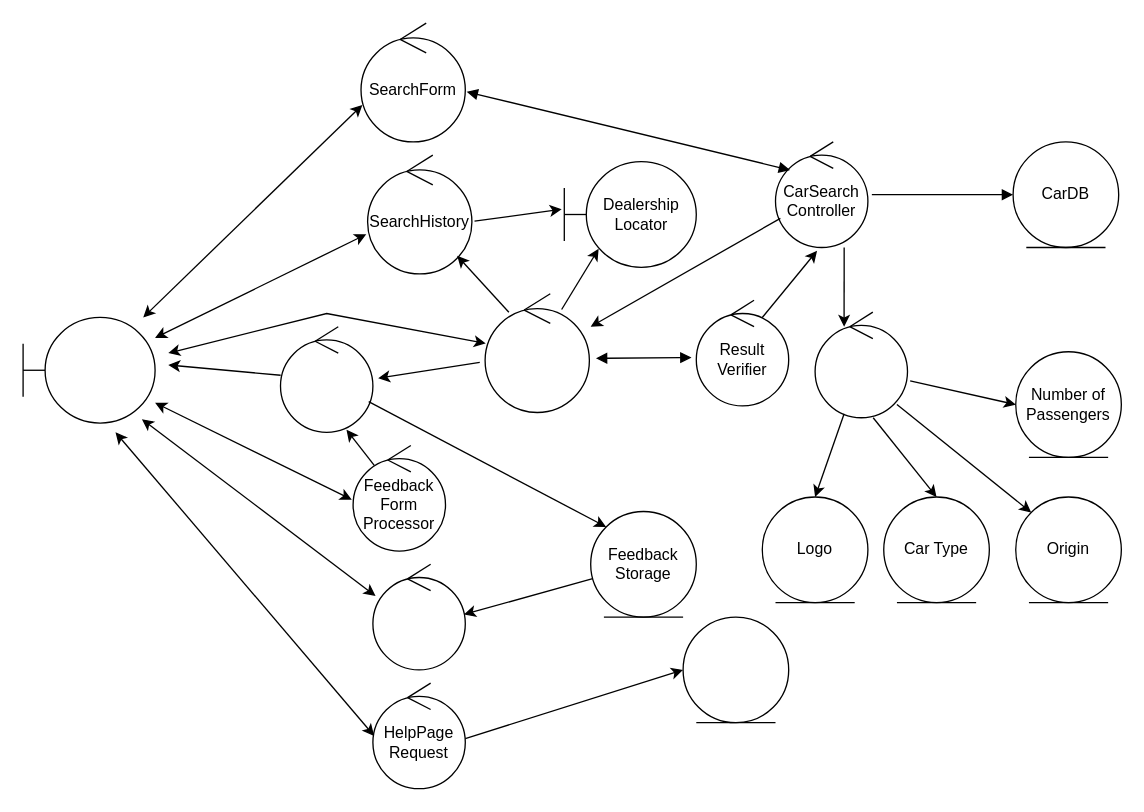
This 1144x812 diagram has some shape labels left out. Here are the shapes that lost their labels. From the top down, the centre of each, then its label:
the point at 88,369: Forum
the point at 536,352: SearchResult
the point at 861,364: Expert Picker
the point at 326,378: Security Controller
the point at 418,616: Feedback Listing
the point at 735,669: HelpInfo
